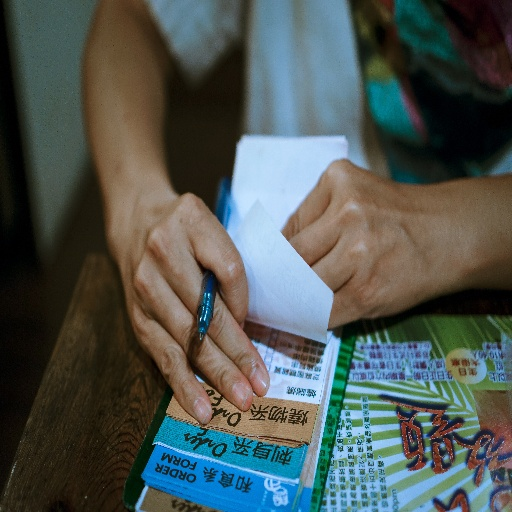hand: (119, 184, 276, 424), (279, 157, 445, 329)
